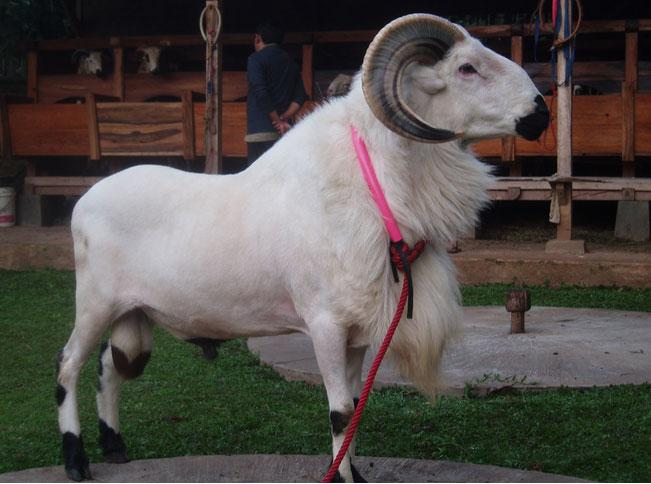Sheep: (362, 4, 550, 193)
